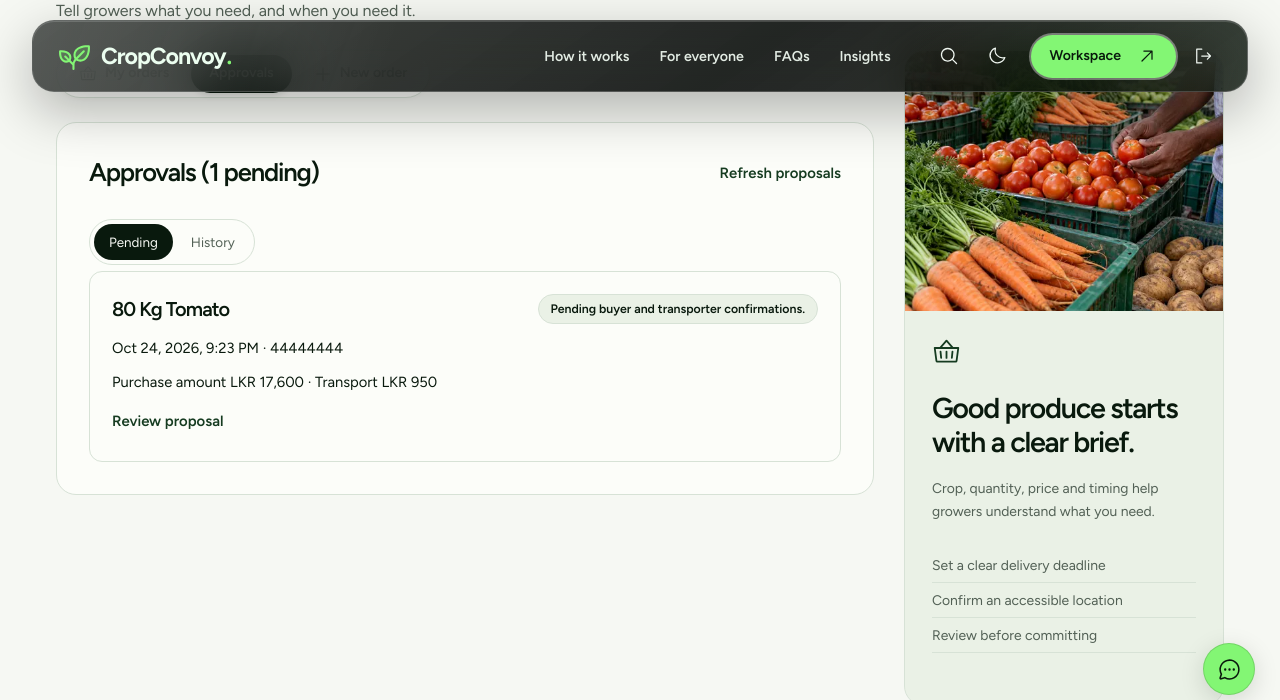
Test case: buyer can approve a pending proposal and find it in history
(page scrolled)
Click the button "Review proposal" at (168, 421), box [112,403,224,439]
(page scrolled)
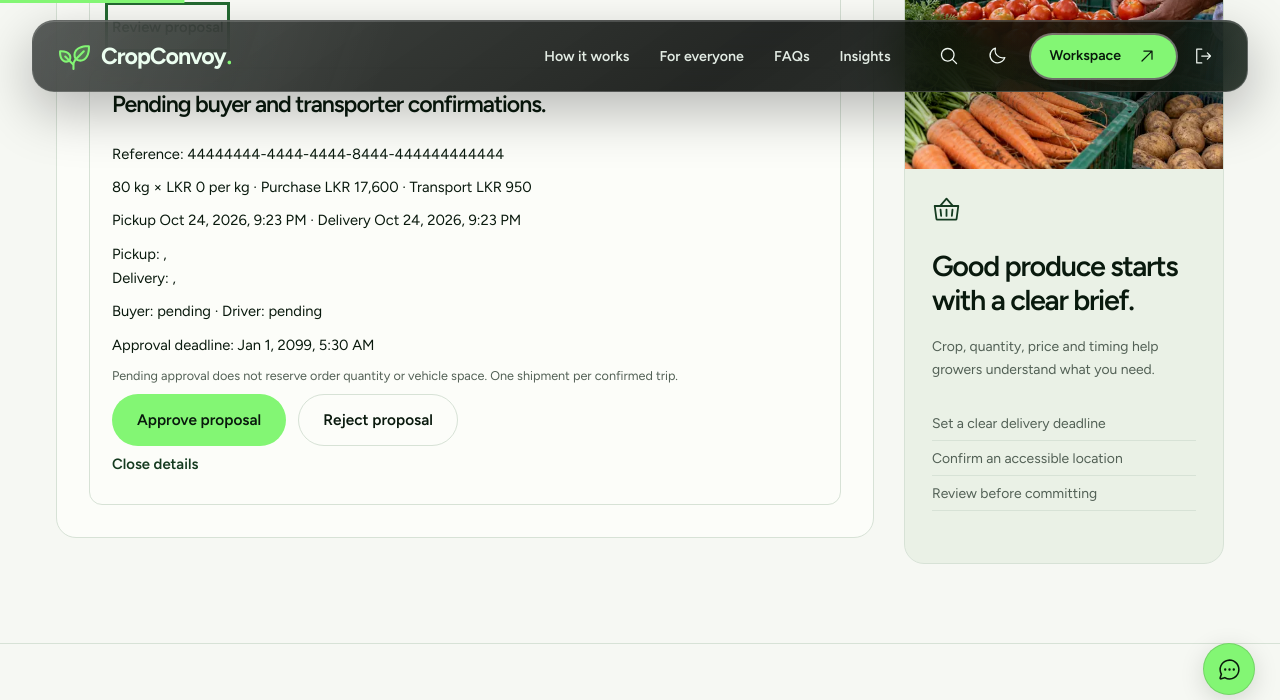
Click the button "Approve proposal" at (199, 420), box [112,394,286,446]
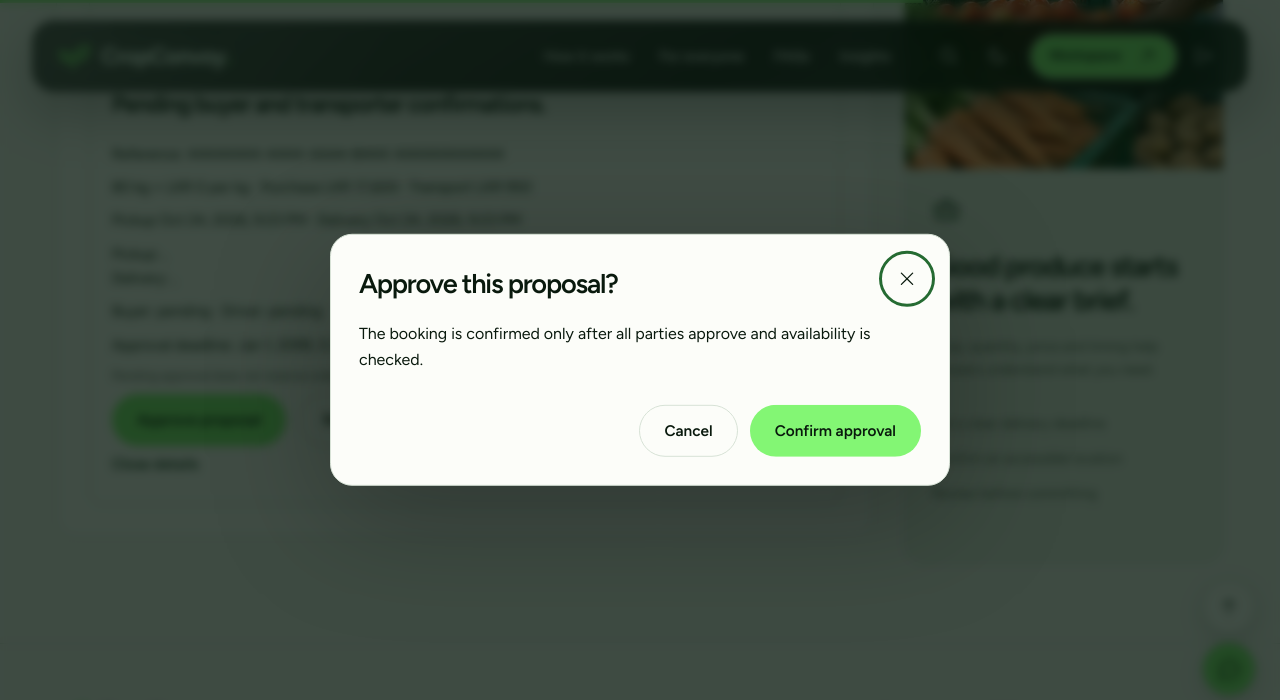
Click the button "Confirm approval" at (835, 431), box [750,405,921,457]
(page scrolled)
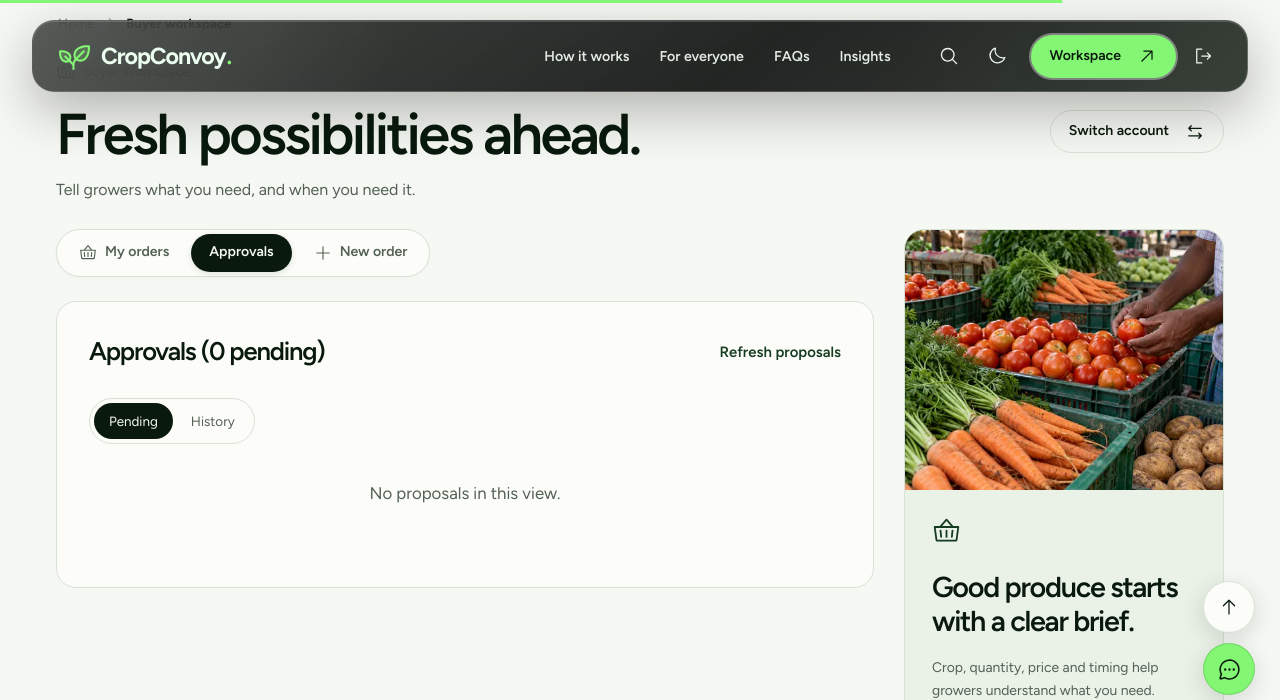
Check: the heading "Approvals (0 pending)" is shown, box [89,336,325,367]
Click the button "History" at (213, 421), box [176,403,250,439]
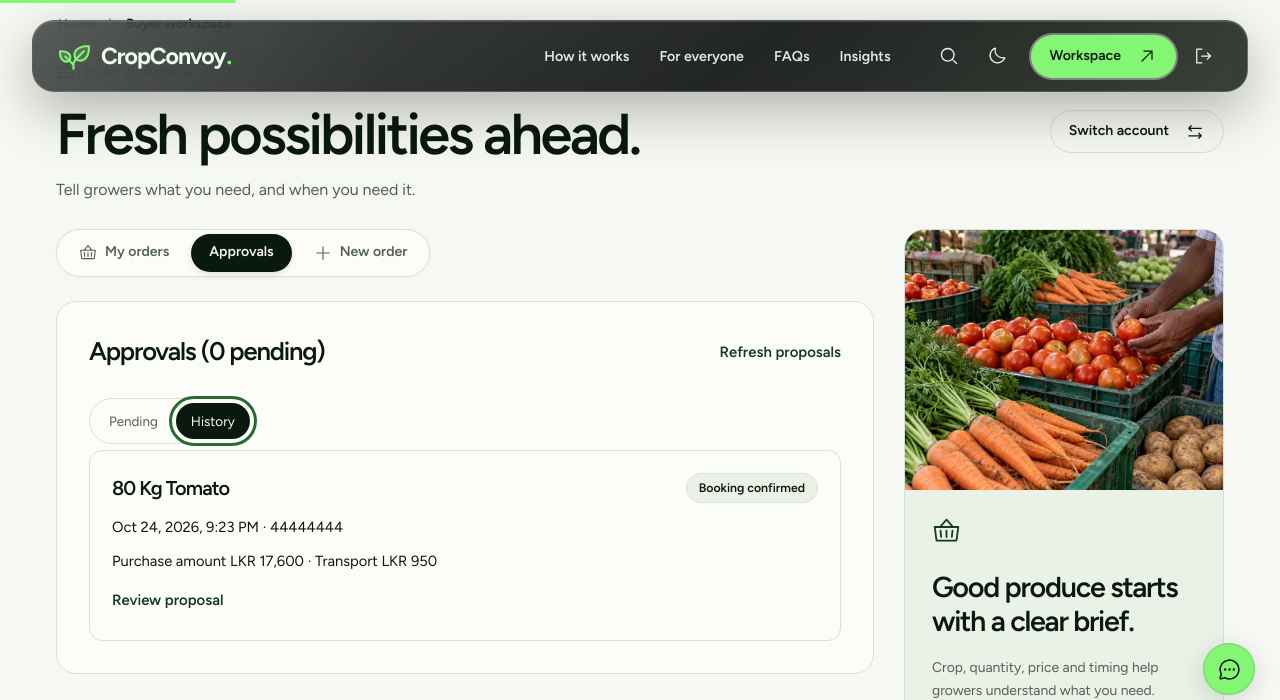
Check: the text "Booking confirmed" is shown, box [686,473,818,503]
